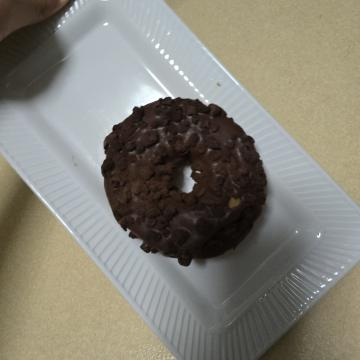doughnut: (83, 90, 273, 276)
